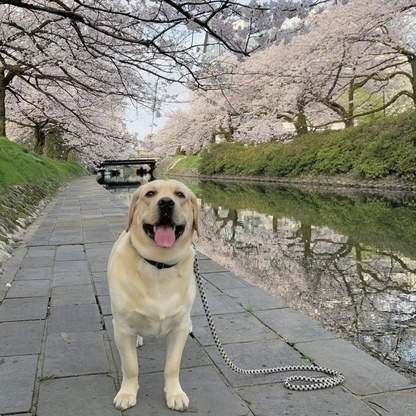labrado: (104, 177, 204, 416)
